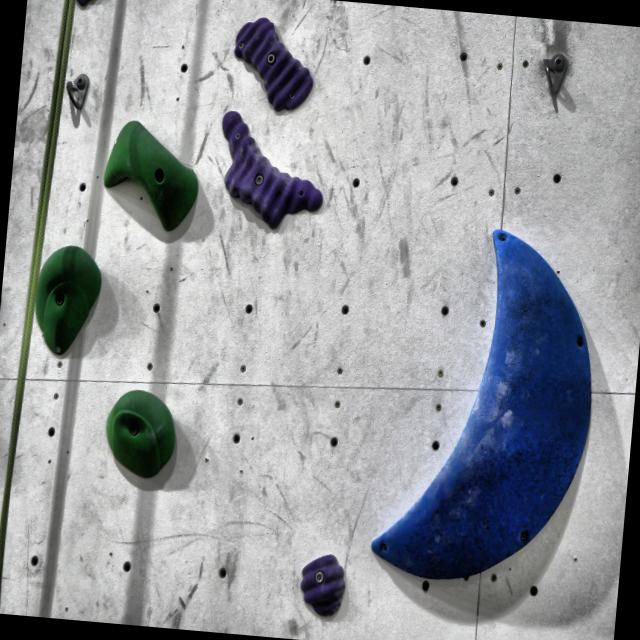Hold: (373, 220, 600, 604), (210, 116, 334, 236), (92, 104, 198, 236), (225, 6, 322, 121), (31, 230, 107, 364), (98, 378, 180, 486), (292, 549, 346, 625)
